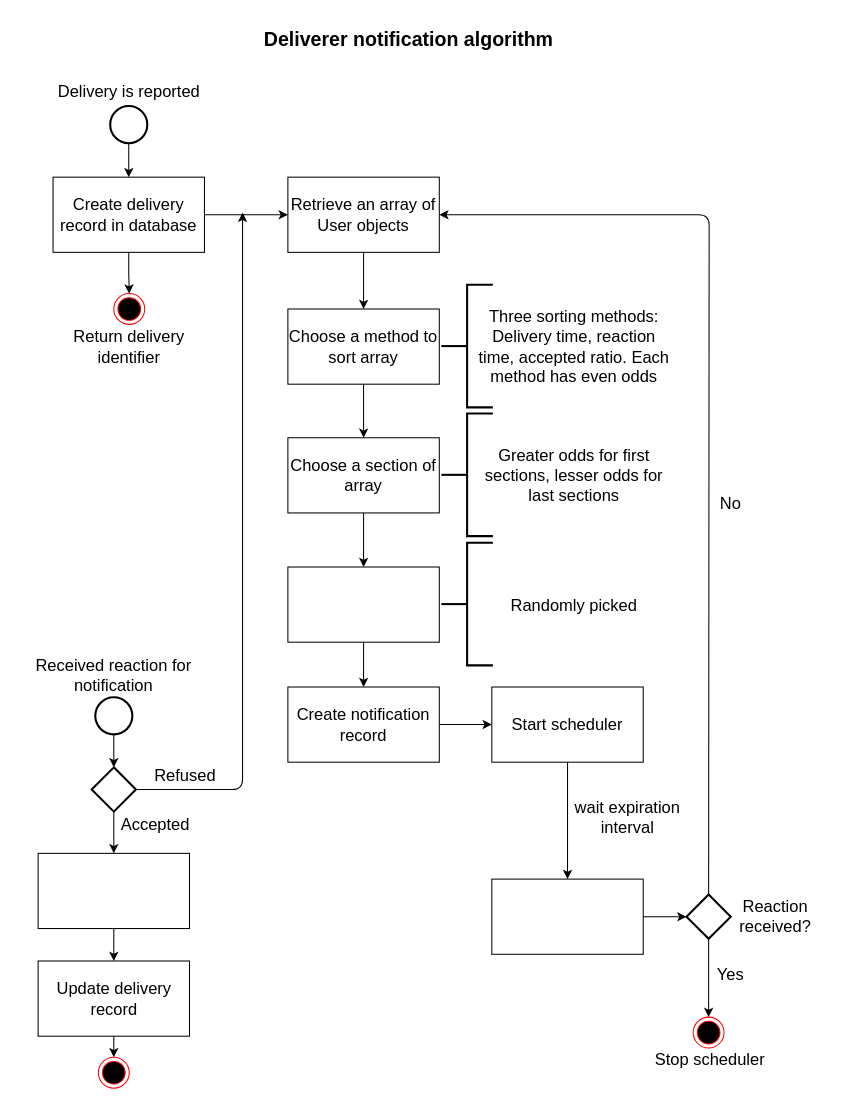
Some shapes in this 846 by 1106 pixel diagram are drawn without their labels. The box of each missing label's shape, as (x1, y1, x2, y2) in pixels:
Check notification record: (491, 878, 643, 954)
Choose a User object: (287, 566, 439, 642)
Update notification record: (37, 852, 190, 929)
